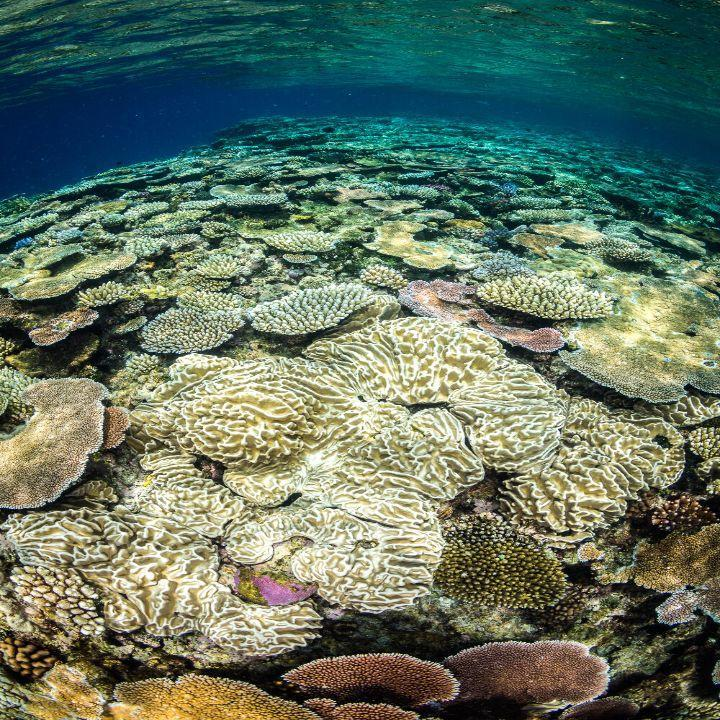Healthy Coral: (12, 164, 712, 709)
